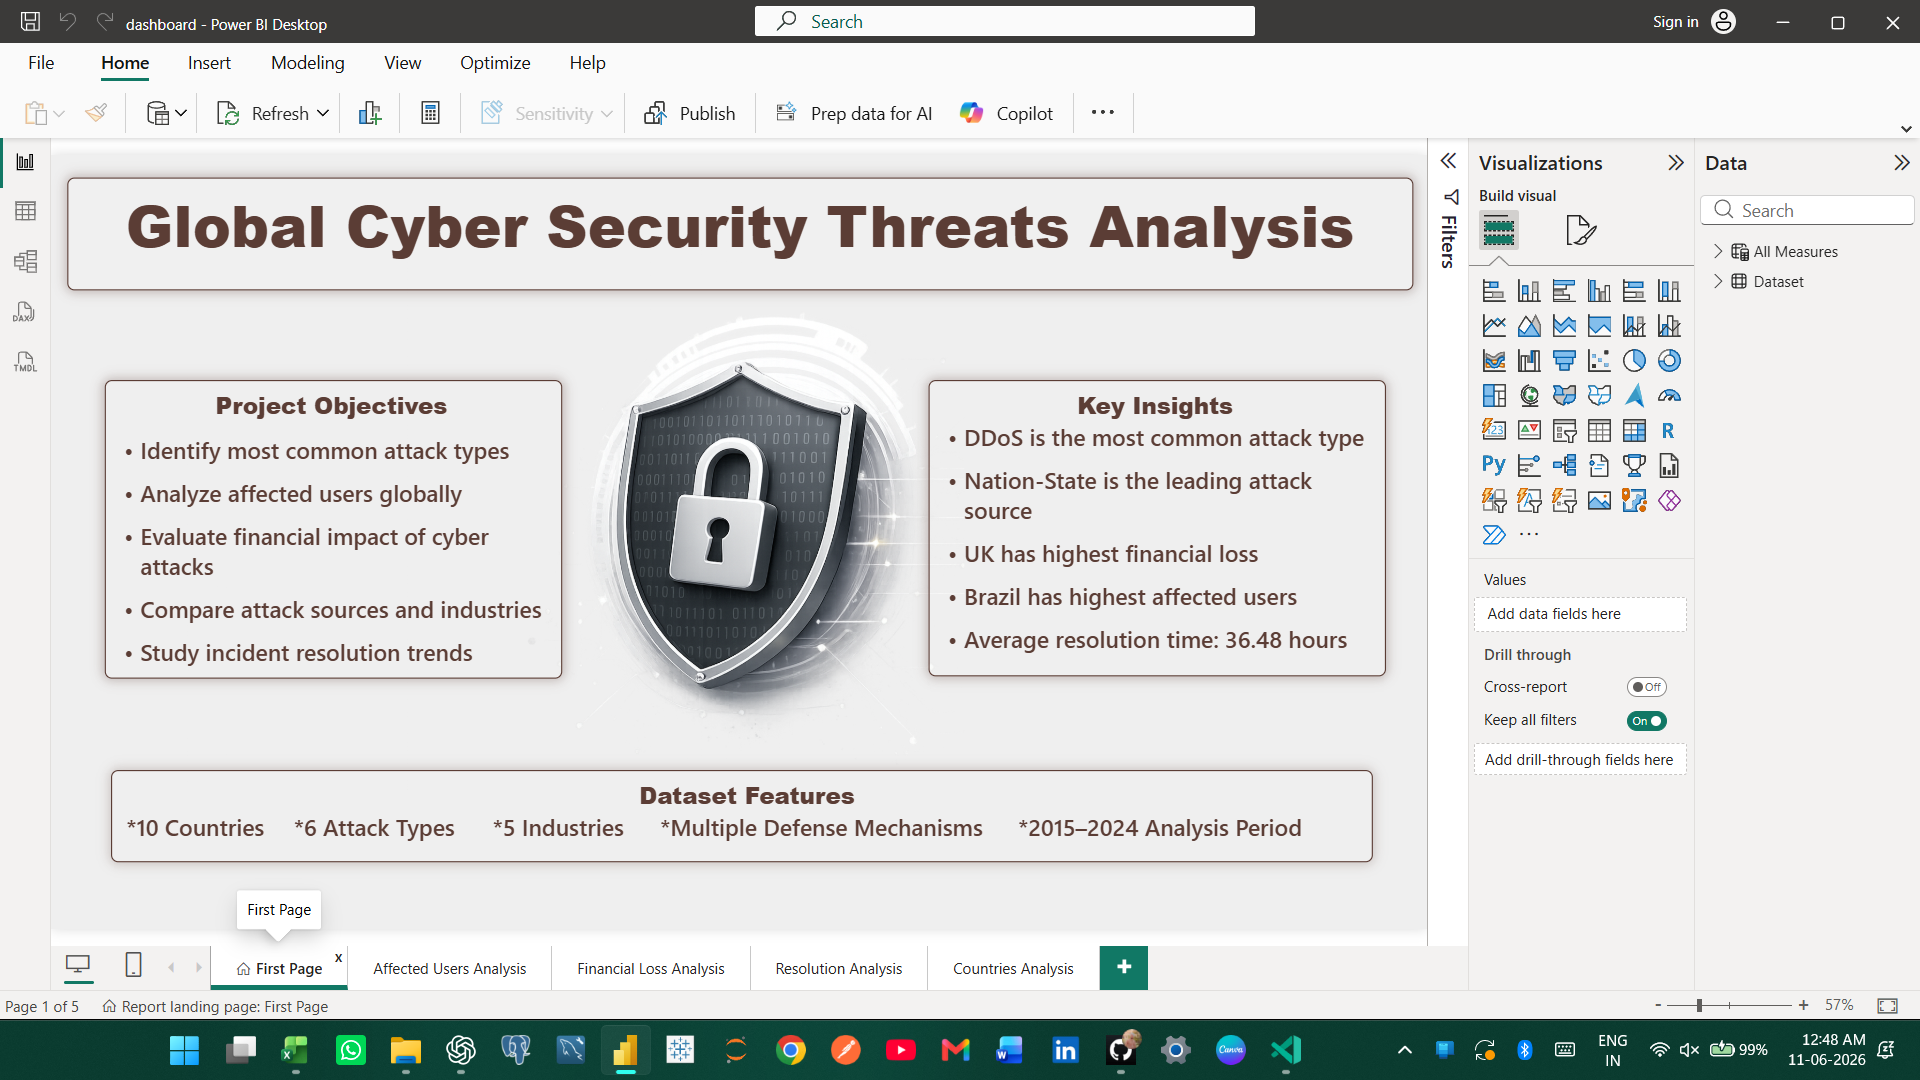

This screenshot's page, from the dashboard's own definition file:
{"tool":"powerbi","page":{"name":"First Page","canvas":[1920,1080],"ordinal":0},"visuals":[{"type":"image","box":[126.7,114,1147.3,781.8],"z":0},{"type":"textbox","box":[23.5,30.8,1878.8,157.4],"z":1000},{"type":"textbox","box":[83.2,857.8,1760.8,128.5],"z":2000},{"type":"textbox","box":[75,313.3,638.3,416.7],"z":3000},{"type":"textbox","box":[1225,313.3,638.3,414],"z":4000}]}

Visuals, with their boxes on the page's 1920x1080 design canvas (x1, y1, x2, y2). These are canvas units, not pixel positions in the 1920x1080 screenshot, which may show the page scaled, cropped or inside an application window:
image: (127,114,1274,896)
textbox: (24,31,1902,188)
textbox: (83,858,1844,986)
textbox: (75,313,713,730)
textbox: (1225,313,1863,727)
